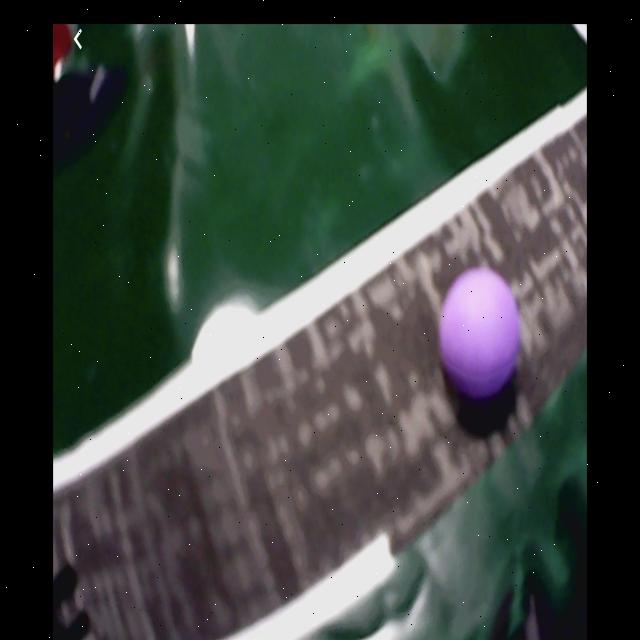ball: (438, 269, 518, 397)
